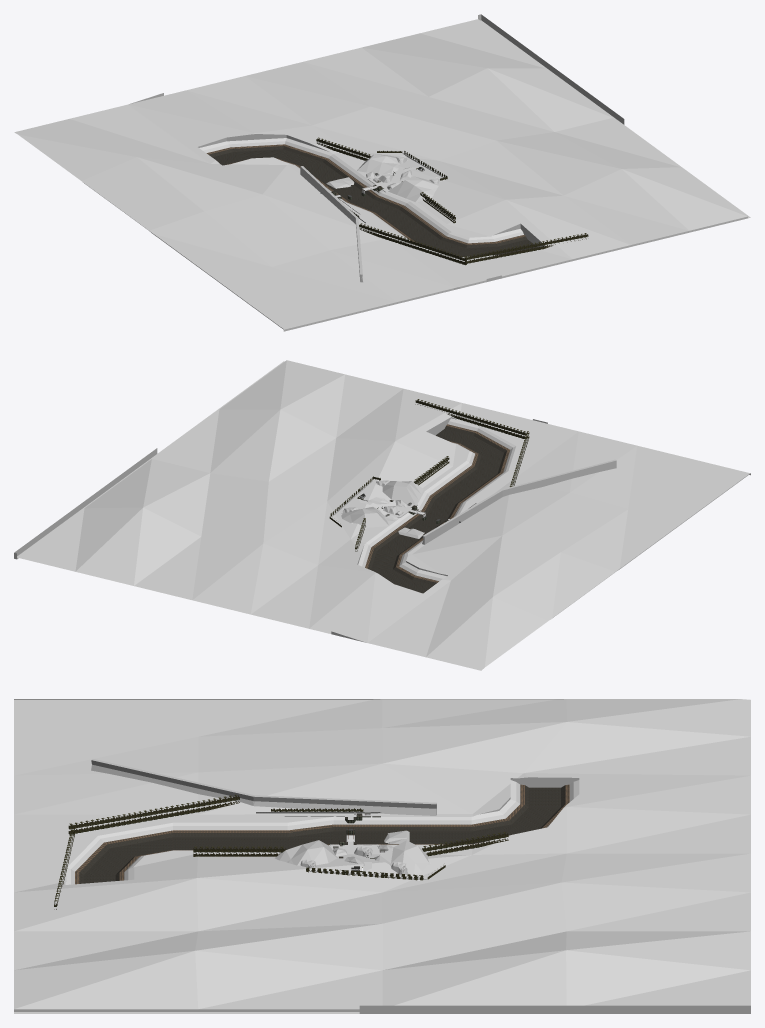
Rendered from marketGarden.fbx.
The picture shows the model from 3 angles, top to bottom: view 1: azimuth 30°, elevation 25°; view 2: azimuth 150°, elevation 25°; view 3: azimuth 270°, elevation 25°; orthographic projection. The views are drawn at different scales.
Visible parts, largest first — view 1: MarketGarden; view 2: MarketGarden; view 3: MarketGarden.
Boxes of the visible parts, left/top/right/bottom form: MarketGarden: left=14, top=14, right=750, bottom=331; MarketGarden: left=14, top=360, right=750, bottom=670; MarketGarden: left=14, top=699, right=750, bottom=1013.
Size of the model in its own units: 137626 by 137628 by 5645.
